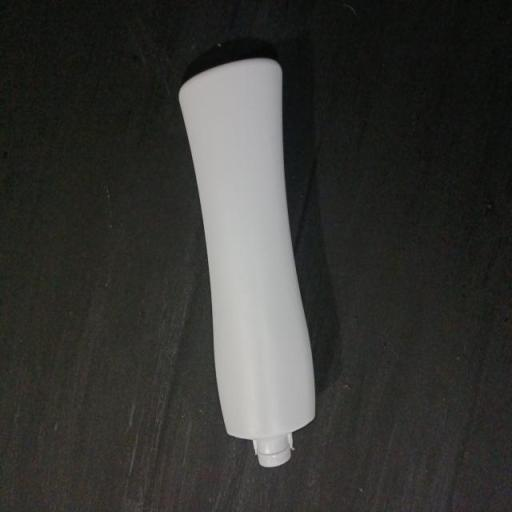plastic: (151, 38, 346, 474)
